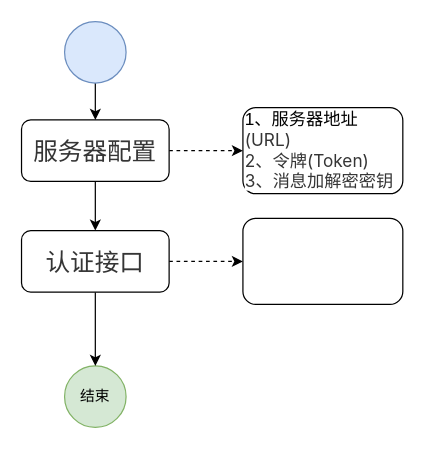
The diagram is 424 pixels wide and 449 high, and some of its shapes have lost their labels. Each missing label, with the centre of its shape:
"1、signature 2、timestamp 3、 nonce 4、echostr" goes at point (322, 260).
"开始" goes at point (94, 51).
